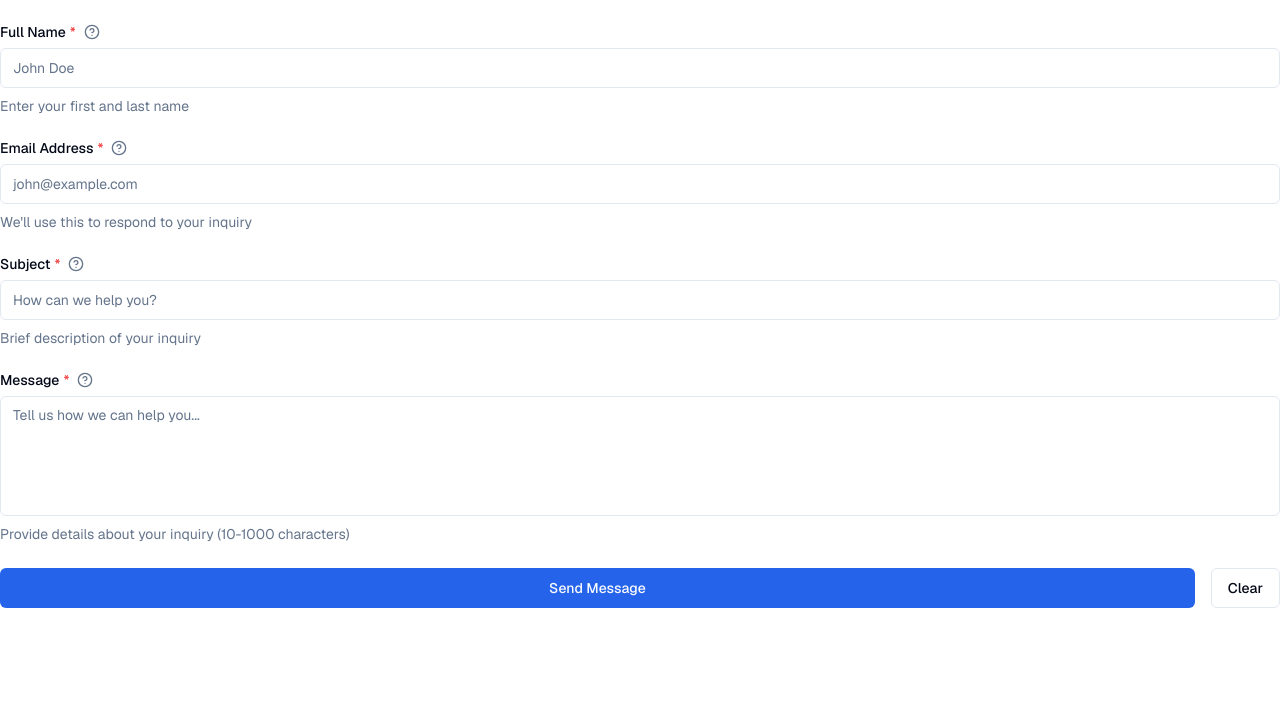
Test: Form Validation Components › ContactForm › shows validation errors for empty required fields
The width and height of the screenshot is (1280, 720).
Step 1. Click the button "Send Message" → point(597, 588), box [0,568,1195,608]
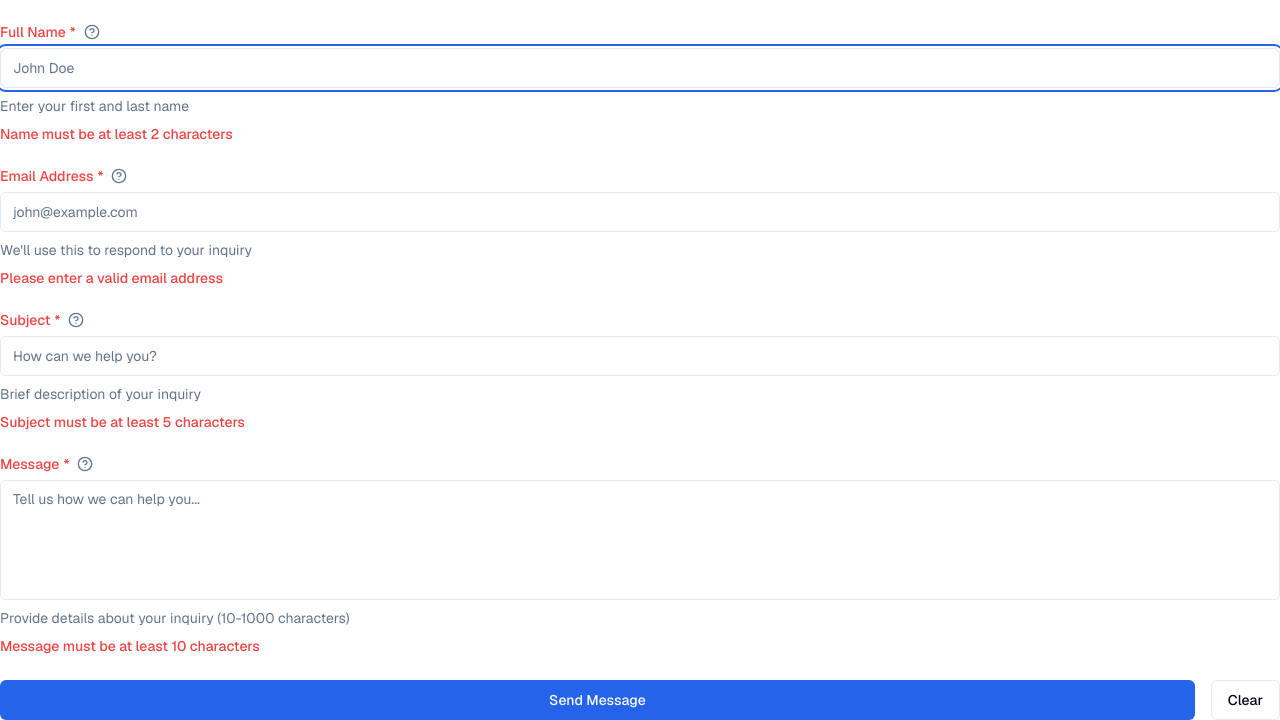
Check: the text "Name must be at least 2 characters" is shown, box [0,125,233,143]
Check: the text "Please enter a valid email address" is shown, box [0,269,223,287]
Check: the text "Subject must be at least 5 characters" is shown, box [0,413,245,431]
